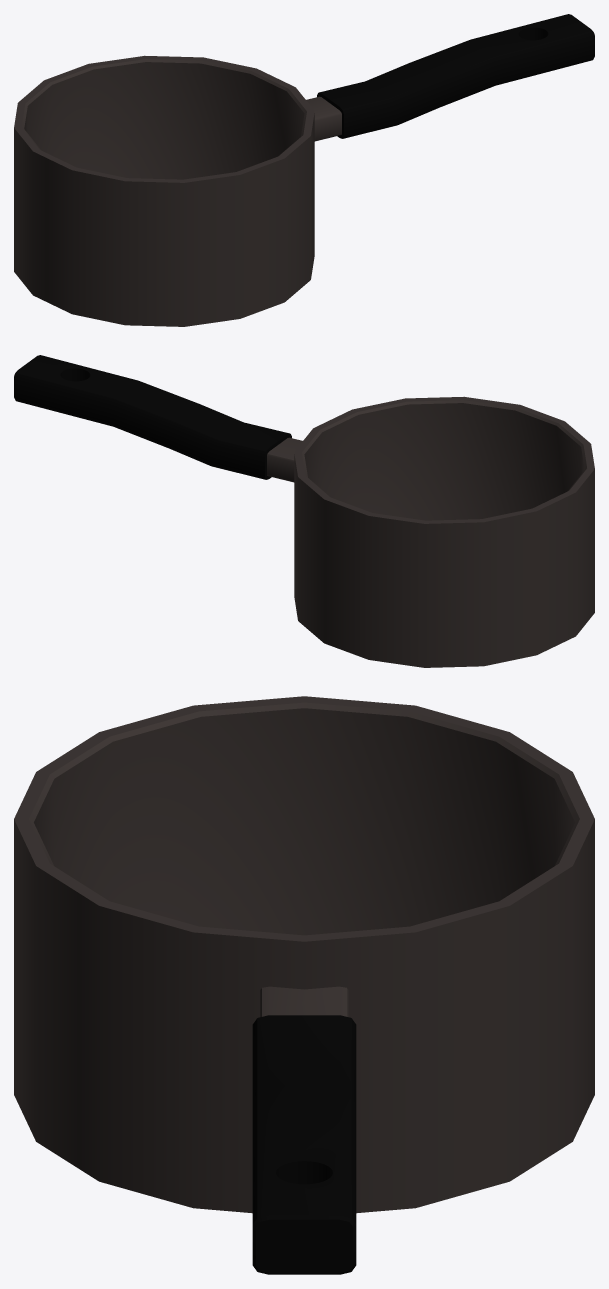
Rendered from LP_sauce_pot2.obj.
3 views of the same model, one above another, from view 1: azimuth 30°, elevation 25°; view 2: azimuth 150°, elevation 25°; view 3: azimuth 270°, elevation 25° (orthographic). The views are drawn at different scales.
Parts seen in each view (by area): view 1: LP_sauce_pot2.001; view 2: LP_sauce_pot2.001; view 3: LP_sauce_pot2.001.
Part boxes in pixels (x1,y1,x2,y2): LP_sauce_pot2.001: (14, 14, 594, 326); LP_sauce_pot2.001: (14, 355, 594, 667); LP_sauce_pot2.001: (14, 696, 594, 1274).
Bounding box in the file's own units: 0.5618 × 0.1408 × 0.2687.
